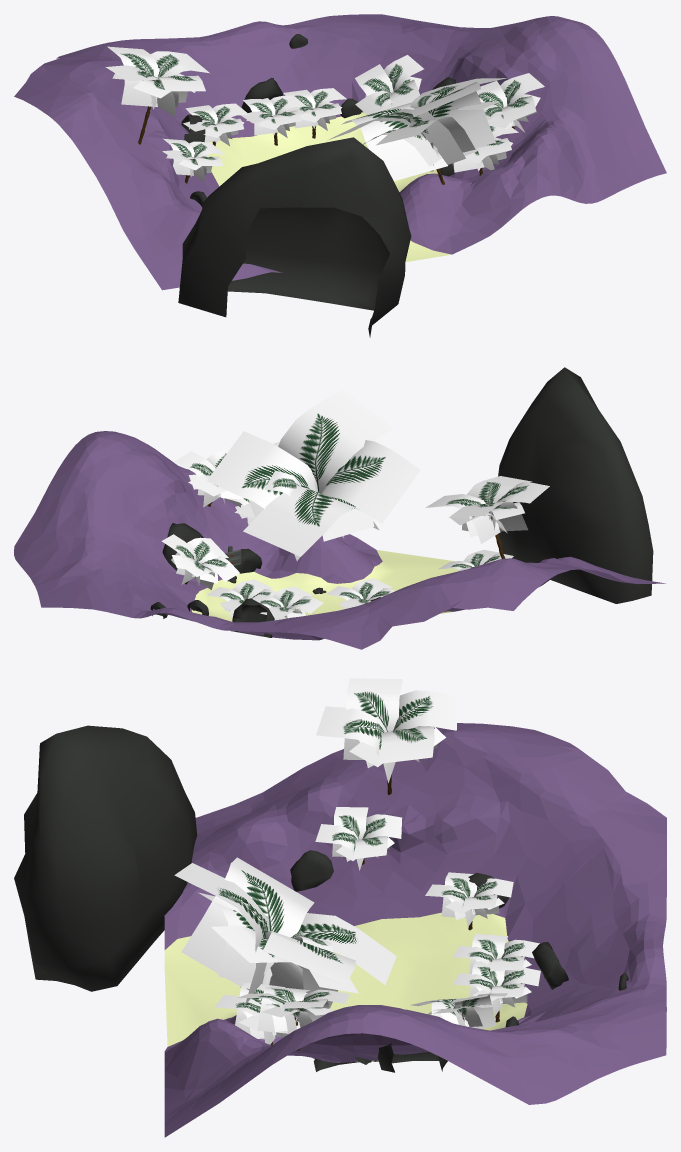
Rendered from Island_Final.fbx.
3 renders of one model, top to bottom at view 1: azimuth 30°, elevation 25°; view 2: azimuth 150°, elevation 25°; view 3: azimuth 270°, elevation 25°, orthographic. The views are drawn at different scales.
Parts seen in each view (by area): view 1: Plane, Stone2.001, Leaf.001, Island.001; view 2: Plane, Leaf.001, Stone2.001, Island.001; view 3: Plane, Leaf.001, Stone2.001, Island.001.
Boxes of the visible parts, x1=… form: Plane: x1=14, y1=14, x2=666, y2=290; Stone2.001: x1=178, y1=34, x2=455, y2=337; Leaf.001: x1=105, y1=46, x2=544, y2=181; Island.001: x1=207, y1=112, x2=451, y2=262; Plane: x1=14, y1=431, x2=665, y2=649; Leaf.001: x1=161, y1=389, x2=549, y2=620; Stone2.001: x1=150, y1=367, x2=653, y2=637; Island.001: x1=192, y1=550, x2=458, y2=621; Plane: x1=164, y1=723, x2=666, y2=1137; Leaf.001: x1=174, y1=678, x2=540, y2=1044; Stone2.001: x1=14, y1=725, x2=628, y2=1072; Island.001: x1=164, y1=912, x2=527, y2=1062.
Bounding box in the file's own units: 6966 × 2582 × 6332.
